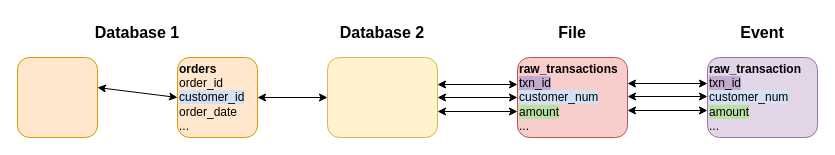
Some shapes in this 835 by 155 pixel diagram are drawn without their labels. The box of each missing label's shape, as (x1, y1, x2, y2) in pixels:
customers customer_id name address ...: (16, 56, 98, 138)
transactions transaction_id customer_number amount ...: (326, 56, 438, 138)
